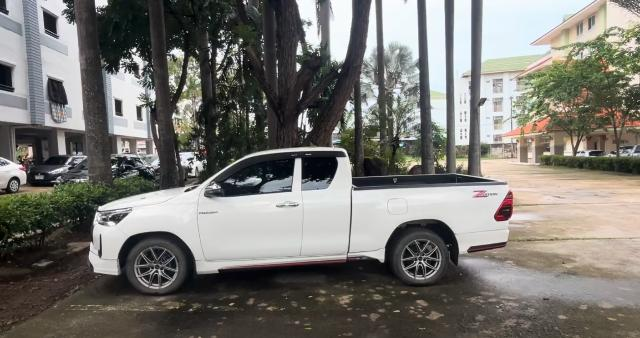pickup-truck: (88, 145, 512, 298)
